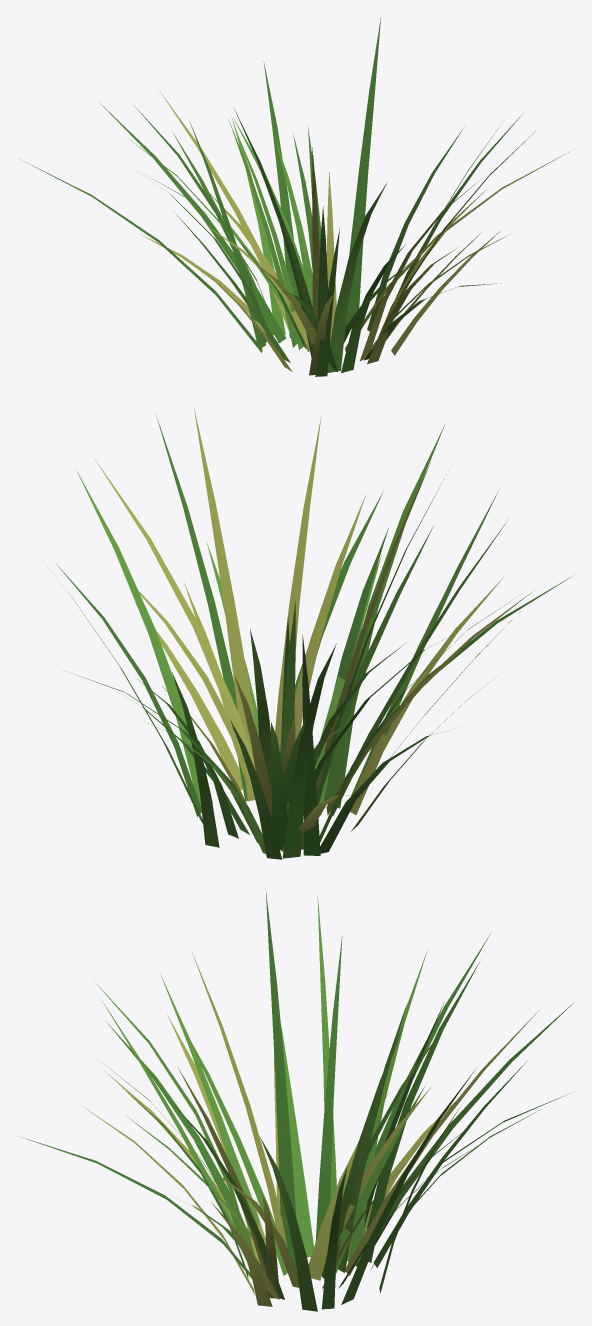
Rendered from grass-tuft-c.glb.
The picture shows the model from 3 angles, top to bottom: view 1: azimuth 30°, elevation 25°; view 2: azimuth 150°, elevation 25°; view 3: azimuth 270°, elevation 25°; orthographic projection. The views are drawn at different scales.
Parts seen in each view (by area): view 1: grass-tuft-c; view 2: grass-tuft-c; view 3: grass-tuft-c.
Part boxes in pixels (x1=…): grass-tuft-c: x1=25, y1=15, x2=570, y2=376; grass-tuft-c: x1=56, y1=408, x2=573, y2=859; grass-tuft-c: x1=21, y1=889, x2=577, y2=1311.
Bounding box in the file's own units: 0.4914 × 0.314 × 0.4886.
